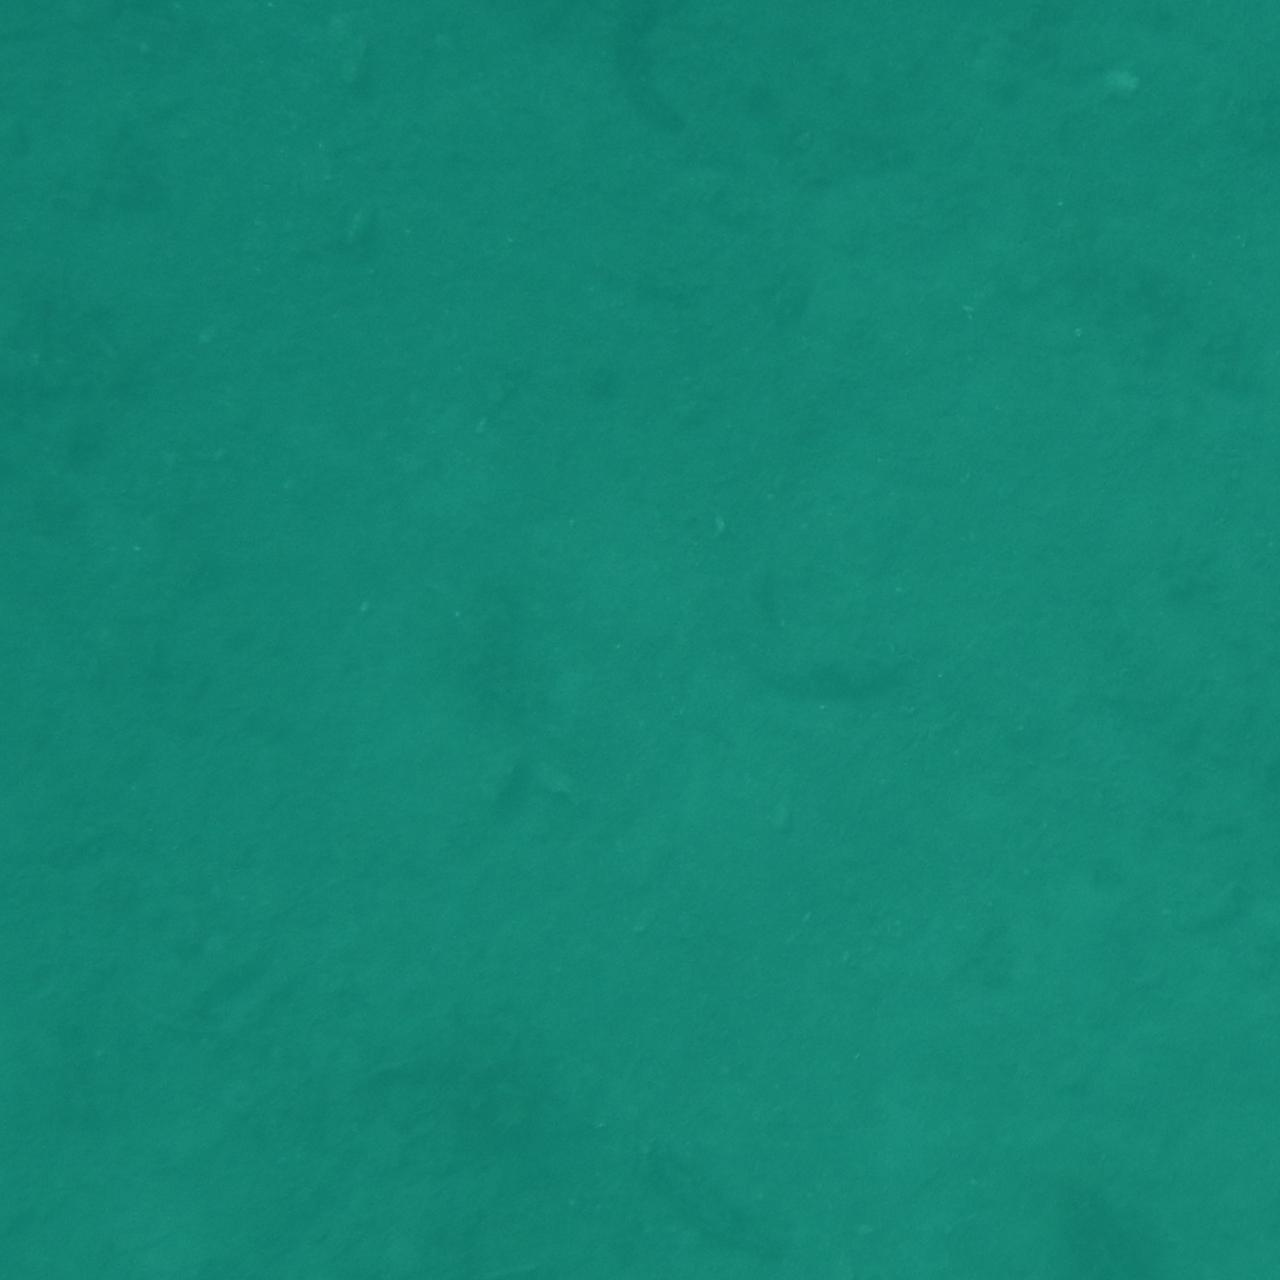Holothuria tubulosa: (733, 588, 949, 729), (606, 1142, 812, 1280), (586, 0, 700, 163), (1194, 686, 1280, 890), (1164, 89, 1280, 237), (0, 165, 82, 367), (0, 0, 149, 110), (0, 973, 144, 1076), (1177, 441, 1280, 576), (1167, 639, 1280, 755), (293, 1225, 511, 1280), (0, 0, 125, 93), (0, 1178, 103, 1280), (0, 1155, 80, 1280), (0, 1186, 87, 1280), (0, 0, 35, 94)
